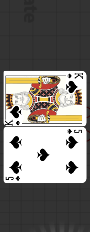5C: (5, 174, 22, 181)
